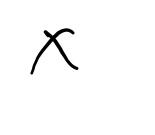mult: (29, 28, 79, 75)
